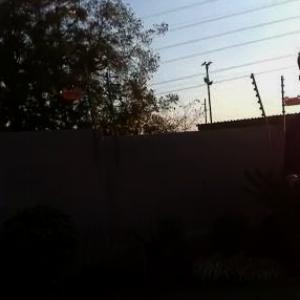follow: (283, 41, 300, 299)
